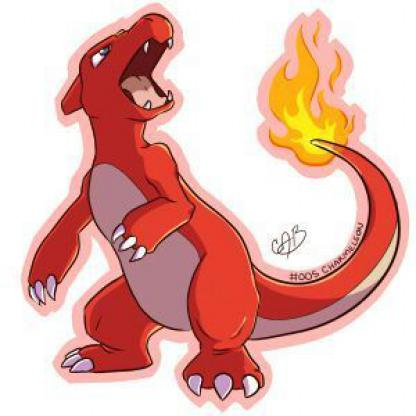Charmeleon: (19, 16, 416, 416)
